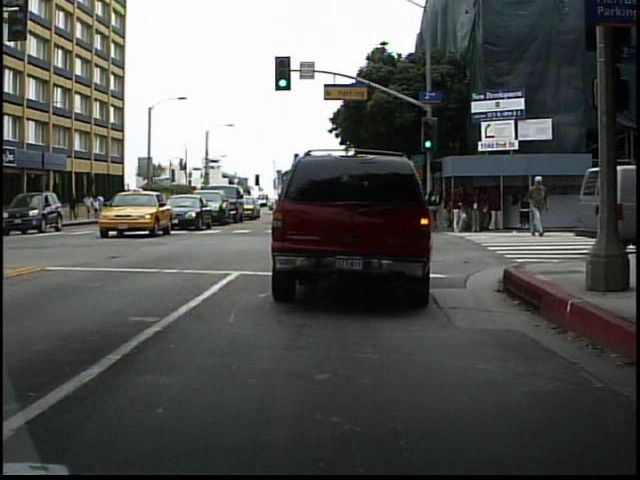person: (524, 172, 547, 247), (24, 194, 42, 230)
